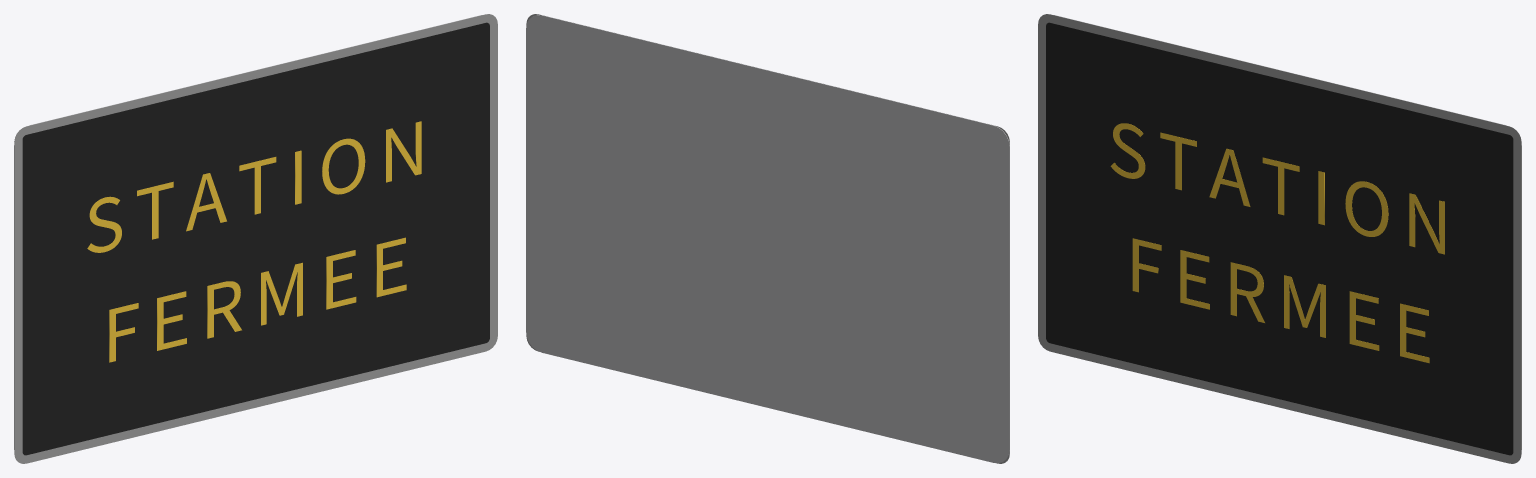
File: XCE15a.glb
The picture shows the model from 3 angles, left to right: view 1: azimuth 30°, elevation 25°; view 2: azimuth 150°, elevation 25°; view 3: azimuth 330°, elevation 25°; orthographic projection.
Visible parts, largest first — view 1: XCE15a_fond01, XCE15a_cadre00, XCE15a_txt03, XCE15a_txt02, XCE15a_dos; view 2: XCE15a_dos, XCE15a_cadre00; view 3: XCE15a_fond01, XCE15a_cadre00, XCE15a_txt03, XCE15a_txt02, XCE15a_dos.
Boxes of the visible parts, x1,y1,x2,y2 form: XCE15a_fond01: [22, 22, 489, 455]; XCE15a_cadre00: [14, 14, 497, 463]; XCE15a_txt03: [109, 237, 406, 362]; XCE15a_txt02: [87, 121, 421, 252]; XCE15a_dos: [14, 15, 481, 449]; XCE15a_dos: [526, 15, 1009, 463]; XCE15a_cadre00: [526, 14, 1009, 463]; XCE15a_fond01: [1046, 22, 1513, 455]; XCE15a_cadre00: [1038, 14, 1521, 463]; XCE15a_txt03: [1132, 238, 1429, 363]; XCE15a_txt02: [1110, 123, 1444, 254]; XCE15a_dos: [1054, 15, 1521, 449].
Bounding box in the file's own units: 1.2 × 0.8 × 0.0029.
